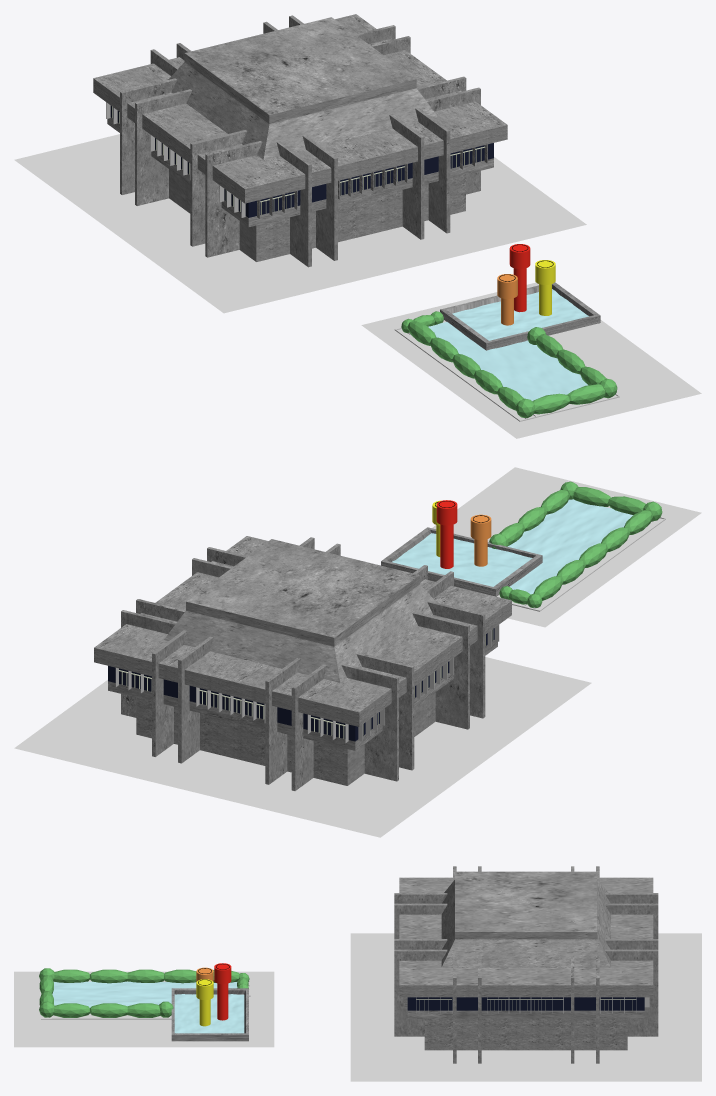
The model's file is auditorio prueba3.1.fbx.
3 renders of one model, top to bottom at view 1: azimuth 30°, elevation 25°; view 2: azimuth 150°, elevation 25°; view 3: azimuth 270°, elevation 25°, orthographic. The views are drawn at different scales.
Visible parts, largest first — view 1: Plane, Cube.002, Cube.006, Cube.004, Piso (Plataforma), Cube.003, Cube.005, Cube, Cube.001, Plane.003, Plane.002, Piscina (+4 smaller); view 2: Plane, Cube.002, Cube.006, Cube.004, Cube.003, Cube.005, Piso (Plataforma), Cube, Cube.001, Plane.003, Plane.002, Piscina (+3 smaller); view 3: Plane, Cube.002, Cube.006, Piso (Plataforma), Cube.003, Cube, Cube.005, Cube.001, Plane.003, Plane.002, Cube.004, Piscina (+10 smaller).
Boxes of the visible parts, left/top/right/bottom form: Plane: left=14, top=134, right=586, bottom=313; Cube.002: left=93, top=14, right=507, bottom=203; Cube.006: left=184, top=17, right=416, bottom=123; Cube.004: left=120, top=25, right=480, bottom=257; Piso (Plataforma): left=361, top=282, right=701, bottom=438; Cube.003: left=150, top=15, right=450, bottom=267; Cube.005: left=168, top=62, right=438, bottom=159; Cube: left=169, top=169, right=465, bottom=261; Cube.001: left=107, top=106, right=493, bottom=227; Plane.003: left=428, top=322, right=587, bottom=401; Plane.002: left=452, top=289, right=588, bottom=340; Piscina: left=440, top=282, right=600, bottom=350; Plane: left=14, top=657, right=591, bottom=837; Cube.002: left=94, top=536, right=511, bottom=726; Cube.006: left=186, top=539, right=419, bottom=646; Cube.004: left=121, top=547, right=485, bottom=781; Cube.003: left=152, top=537, right=453, bottom=790; Cube.005: left=164, top=584, right=436, bottom=682; Piso (Plataforma): left=432, top=467, right=701, bottom=627; Cube: left=136, top=692, right=435, bottom=785; Cube.001: left=108, top=628, right=497, bottom=750; Plane.003: left=507, top=499, right=633, bottom=594; Plane.002: left=392, top=533, right=532, bottom=586; Piscina: left=381, top=527, right=542, bottom=596; Plane: left=350, top=933, right=701, bottom=1081; Cube.002: left=399, top=877, right=653, bottom=997; Cube.006: left=455, top=871, right=597, bottom=939; Piso (Plataforma): left=14, top=971, right=274, bottom=1047; Cube.003: left=394, top=893, right=658, bottom=1036; Cube: left=424, top=1018, right=627, bottom=1050; Cube.005: left=441, top=879, right=610, bottom=967; Cube.001: left=407, top=997, right=644, bottom=1018; Plane.003: left=52, top=981, right=237, bottom=1007; Plane.002: left=174, top=994, right=244, bottom=1033; Cube.004: left=453, top=866, right=599, bottom=1063; Piscina: left=171, top=988, right=248, bottom=1041.
Bounding box in the file's own units: 415 × 141 × 812.
